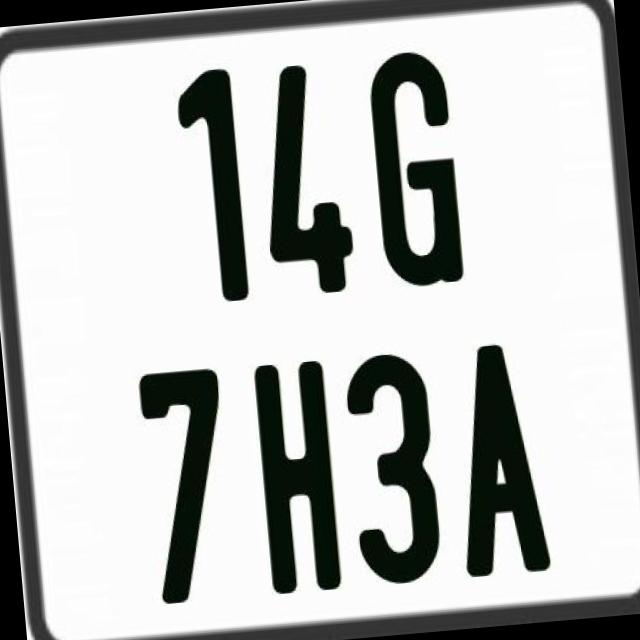1: (170, 68, 247, 314)
3: (340, 346, 443, 582)
4: (250, 61, 354, 306)
7: (135, 365, 242, 611)
A: (446, 341, 556, 578)
G: (364, 46, 466, 294)
H: (252, 356, 342, 594)
